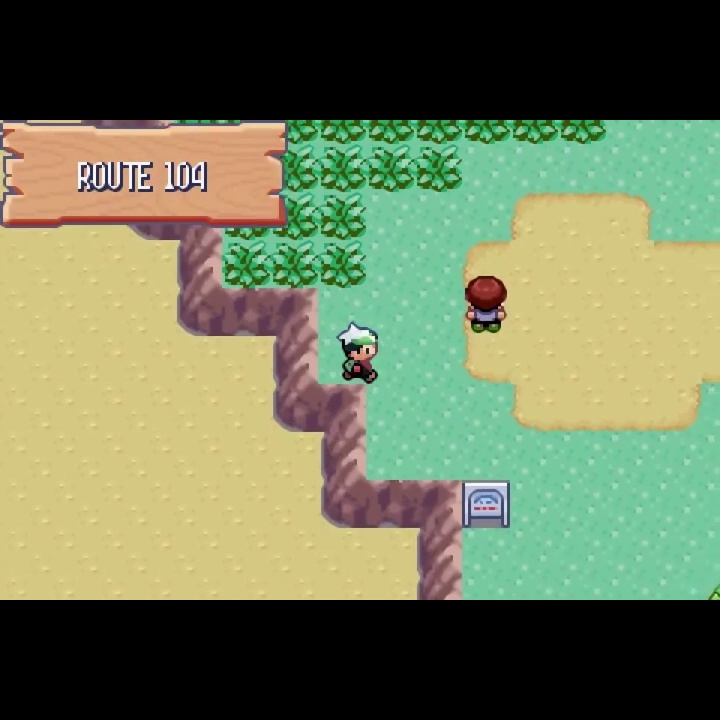grass: (221, 238, 271, 289), (271, 239, 321, 289), (415, 144, 465, 194), (367, 144, 416, 194), (273, 143, 322, 192), (320, 193, 369, 241), (320, 240, 367, 290), (321, 144, 368, 191), (272, 194, 321, 239), (557, 120, 607, 145), (367, 120, 415, 145), (463, 120, 511, 145), (510, 120, 558, 145), (415, 121, 463, 145), (320, 120, 367, 144), (274, 120, 319, 142)
npc: (336, 317, 381, 386), (462, 273, 508, 336)
